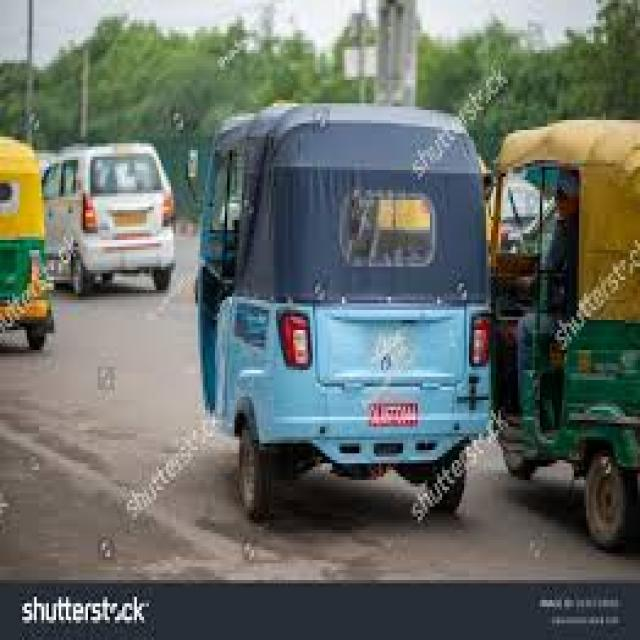three wheeler: (198, 103, 489, 517), (491, 120, 638, 547), (0, 137, 51, 347)
van: (42, 143, 173, 293)
